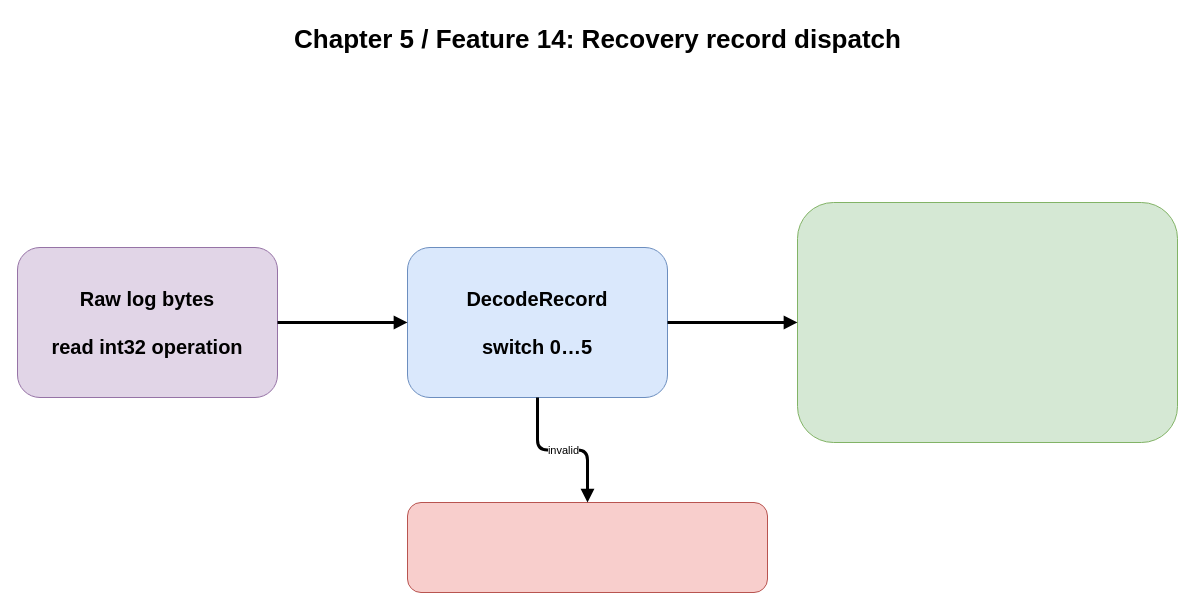
Image size: 1195x610. Some labels were removed from this diagram. The centre of each missing label's shape, as x and y in pixels:
"short prefix or unknown op → error" belongs at (x=587, y=547).
"Strict typed decoder CHECKPOINT / START / COMMIT ROLLBACK / SETINT / SETSTRING" belongs at (x=987, y=322).
